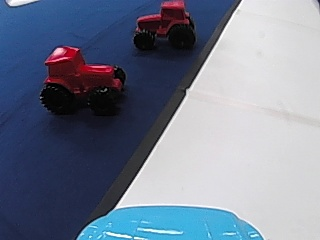tractor: (37, 42, 124, 116), (131, 1, 197, 51)
